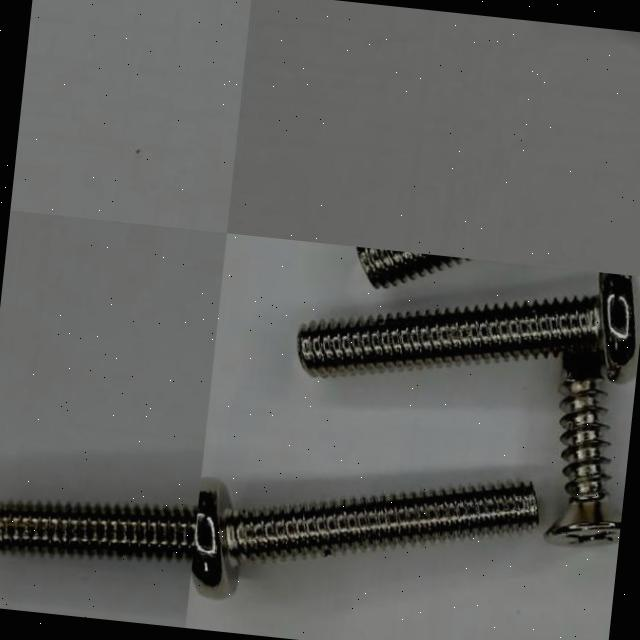Screw: (190, 478, 538, 599), (295, 272, 635, 381), (543, 350, 621, 545), (0, 505, 197, 560)
